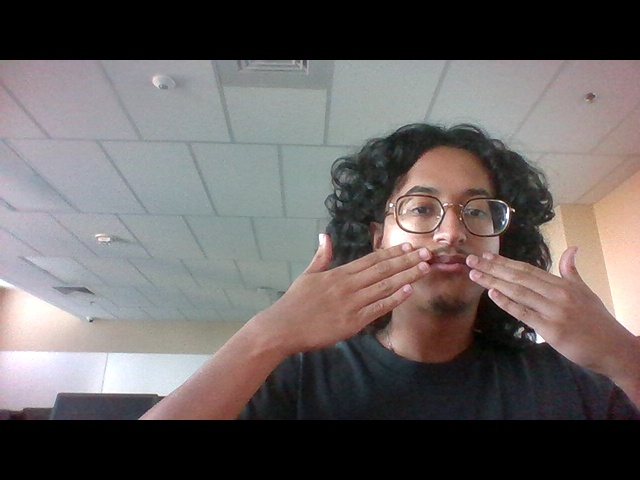thanks: (277, 226, 616, 358)
